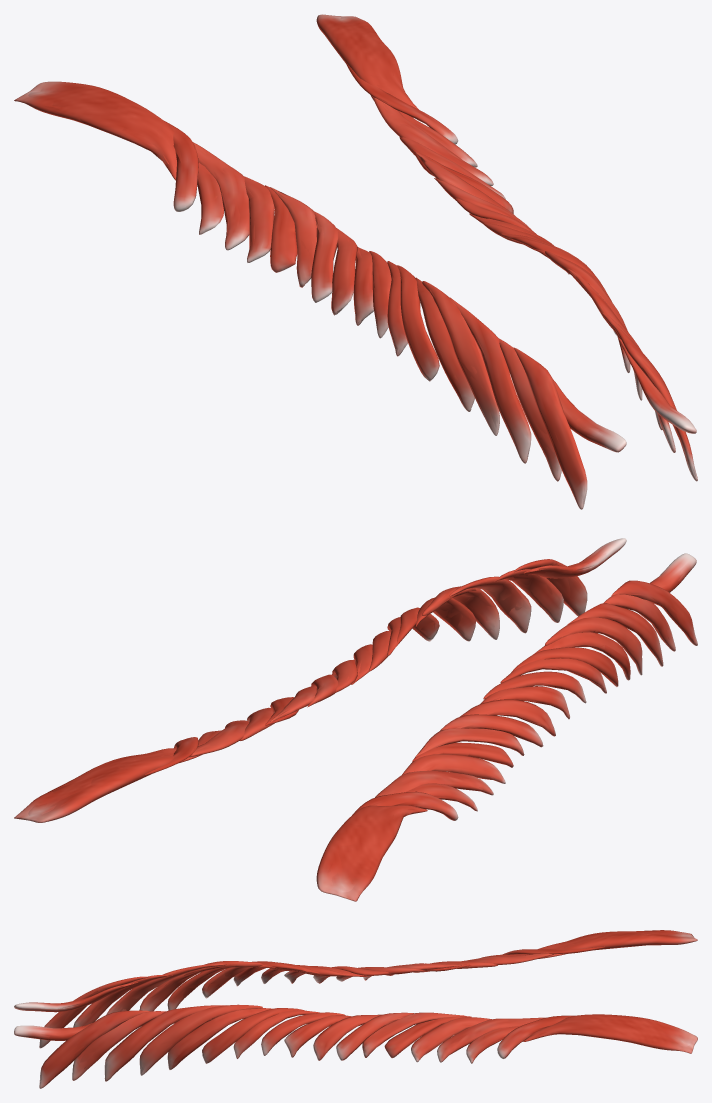
Rendered from Iliocostalis.fbx.
3 renders of one model, top to bottom at view 1: azimuth 30°, elevation 25°; view 2: azimuth 150°, elevation 25°; view 3: azimuth 270°, elevation 25°, orthographic. The views are drawn at different scales.
Parts seen in each view (by area): view 1: Iliocostalis, Iliocostalis low; view 2: Iliocostalis, Iliocostalis low; view 3: Iliocostalis, Iliocostalis low.
Boxes of the visible parts, x1=… form: Iliocostalis: x1=14, y1=14, x2=697, y2=509; Iliocostalis low: x1=16, y1=15, x2=696, y2=506; Iliocostalis: x1=14, y1=538, x2=697, y2=901; Iliocostalis low: x1=14, y1=546, x2=694, y2=900; Iliocostalis: x1=14, y1=930, x2=697, y2=1088; Iliocostalis low: x1=21, y1=930, x2=695, y2=1085.
Size of the model in its own units: 41.74 by 14.85 by 101.
1 material, 1 textured.
